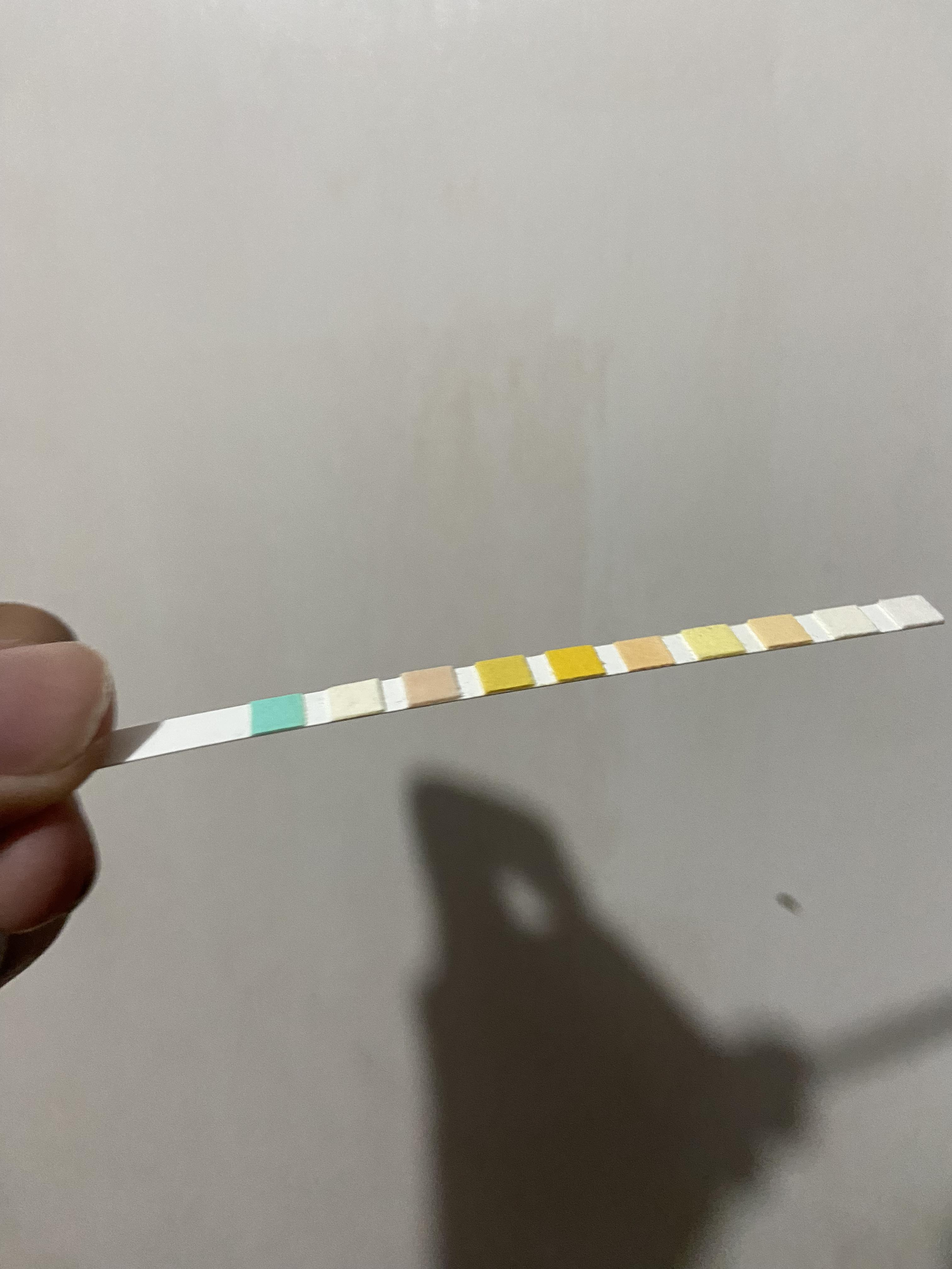Bilirubin: (334, 686, 376, 712)
Blood: (555, 650, 595, 672)
Glucose: (253, 702, 301, 726)
Ketone: (408, 672, 450, 698)
Leukocytes: (905, 598, 924, 623)
Nitrite: (835, 608, 857, 633)
Protein: (699, 627, 728, 652)
SpGravity: (484, 660, 523, 685)
Urobilinogen: (768, 617, 792, 643)
pH: (629, 640, 661, 665)
strip: (103, 595, 944, 767)
